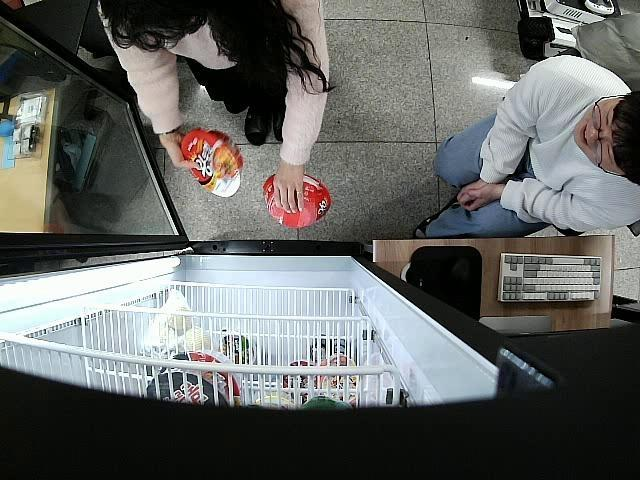10_wangTtukkeong: (181, 128, 246, 198), (264, 174, 333, 229)
